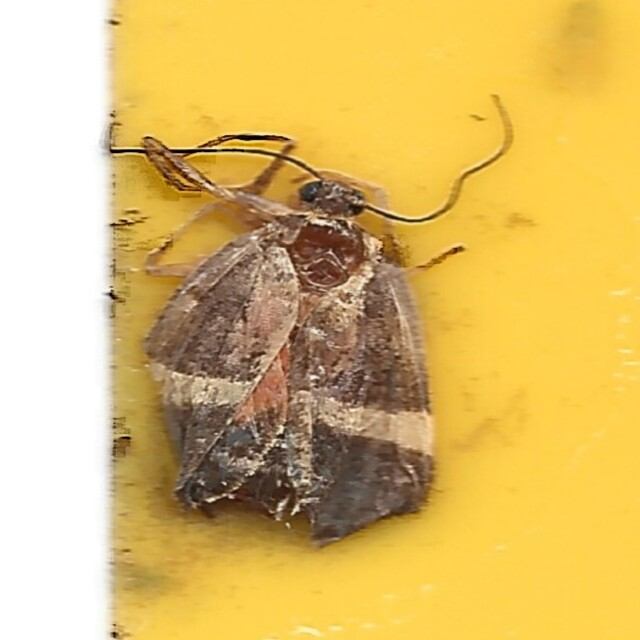Lepidoptera: (122, 95, 518, 545)
